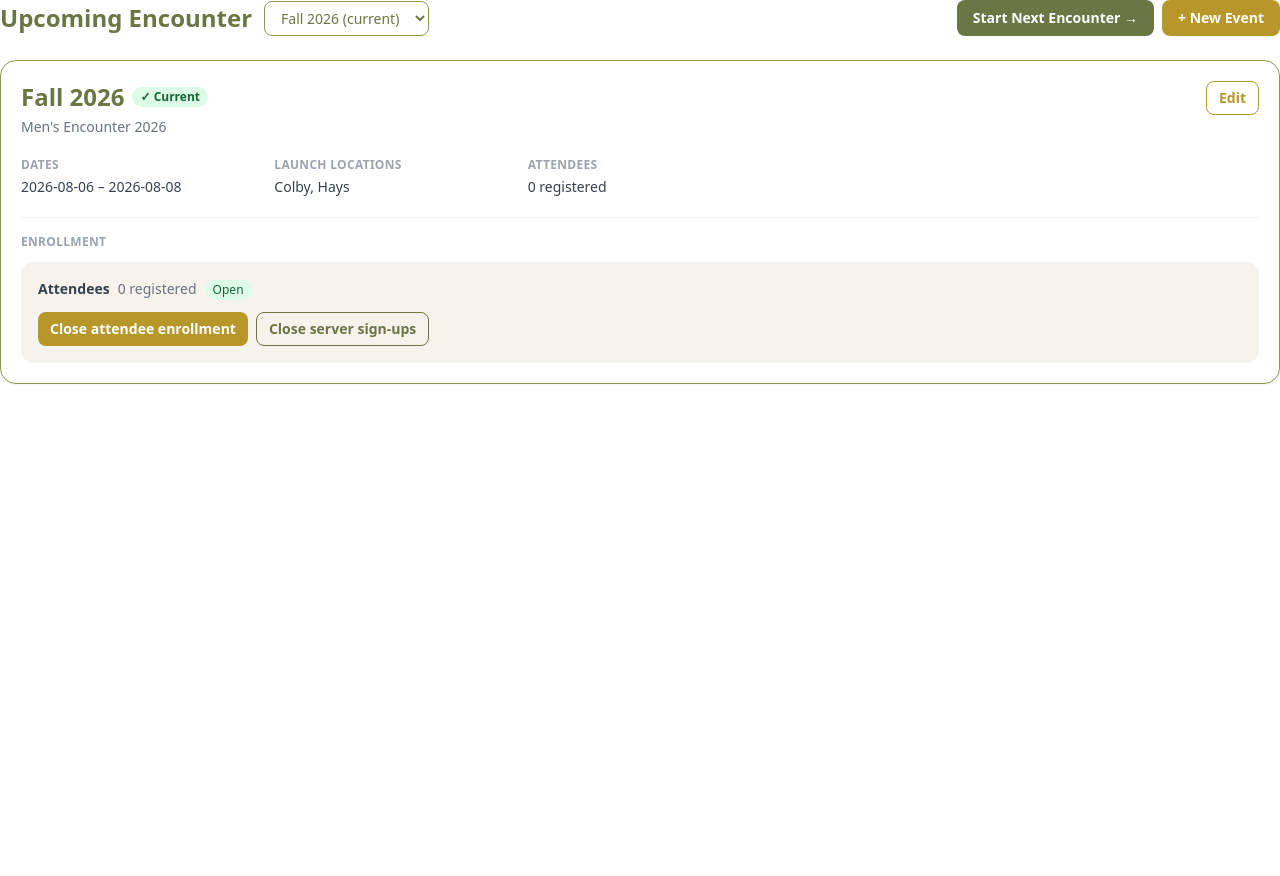
it: Events page › Start Next Encounter still opens the rollover dialog
The image size is (1280, 876).
Expected: the heading "Fall 2026" is shown, [21,81,124,113]
Click the button "Start Next Encounter →" at (1055, 18), box [957,0,1154,36]
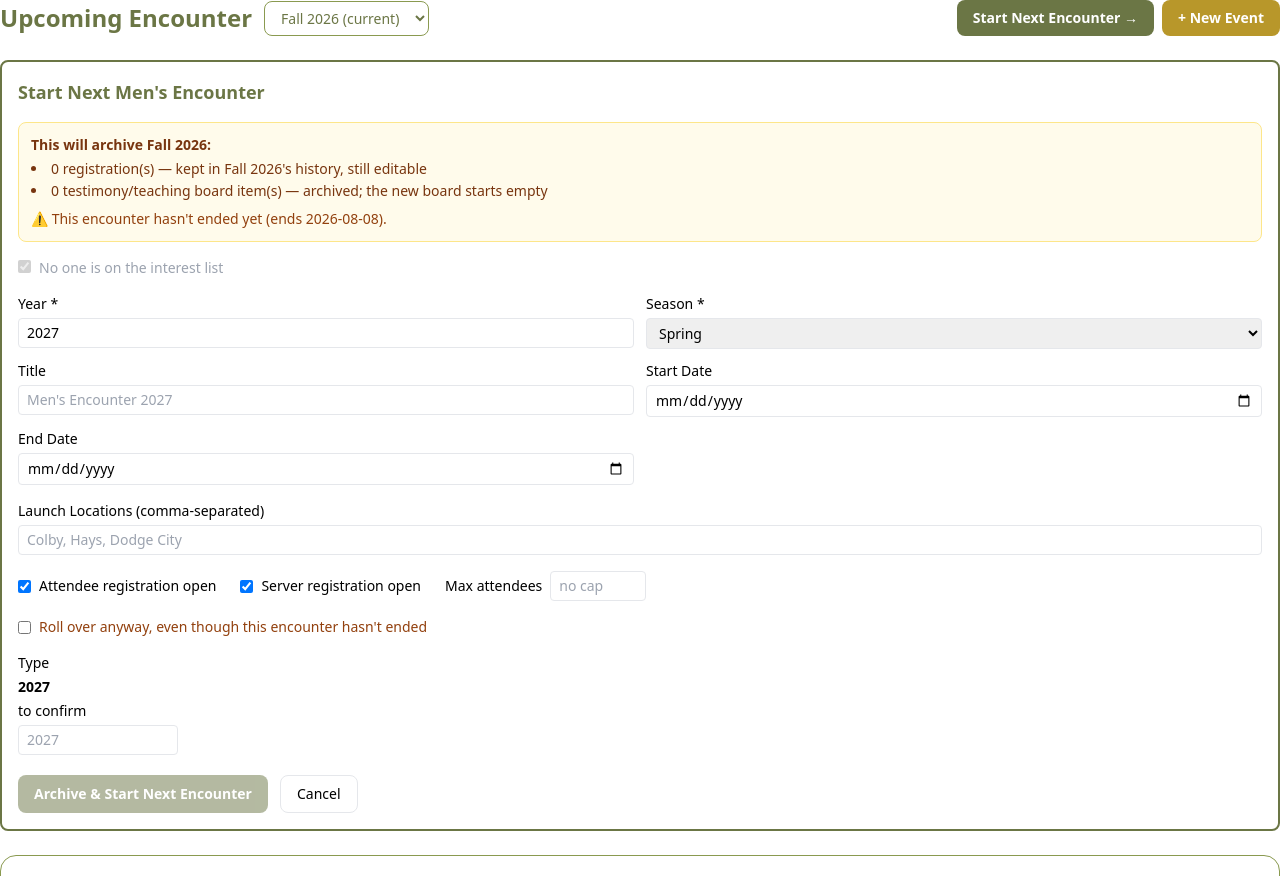
Expected: the form named "start next encounter" is shown
